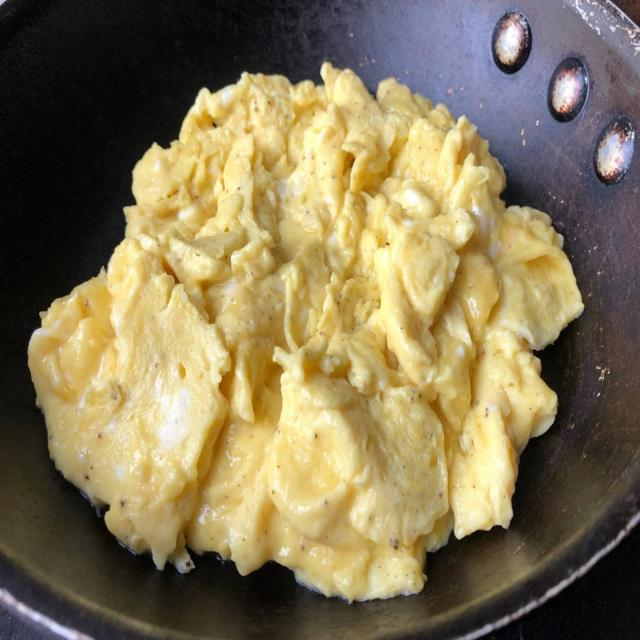eggs: (77, 74, 618, 538)
